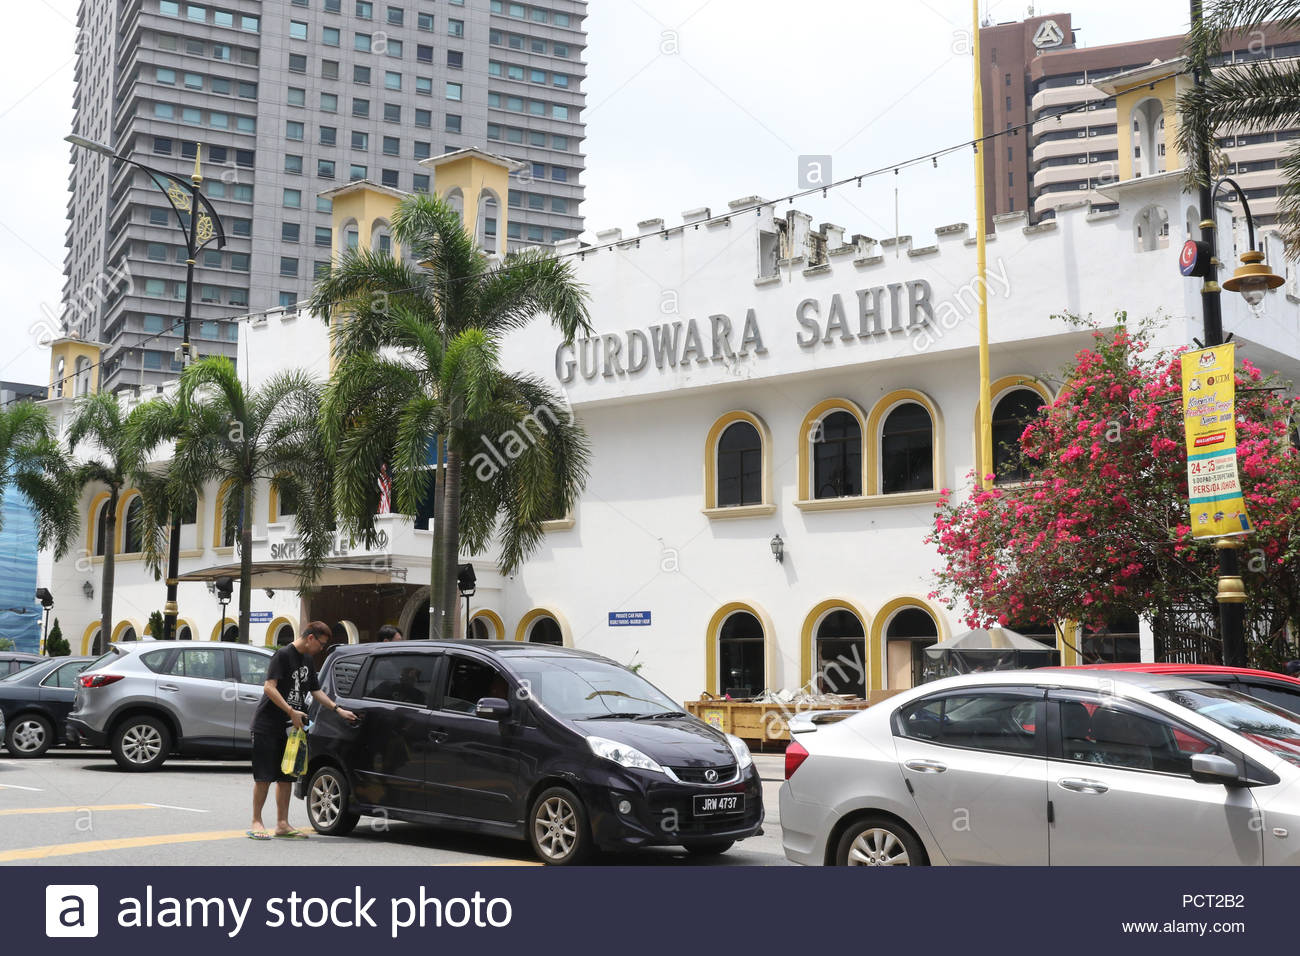Gurdwara: (18, 160, 1149, 663)
